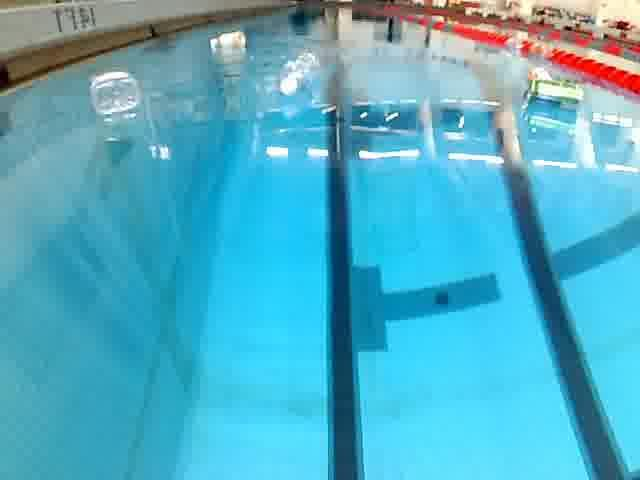Bottle: (81, 62, 146, 118), (274, 48, 324, 99), (201, 28, 253, 54), (526, 62, 552, 86)
Can: (522, 74, 586, 115)
